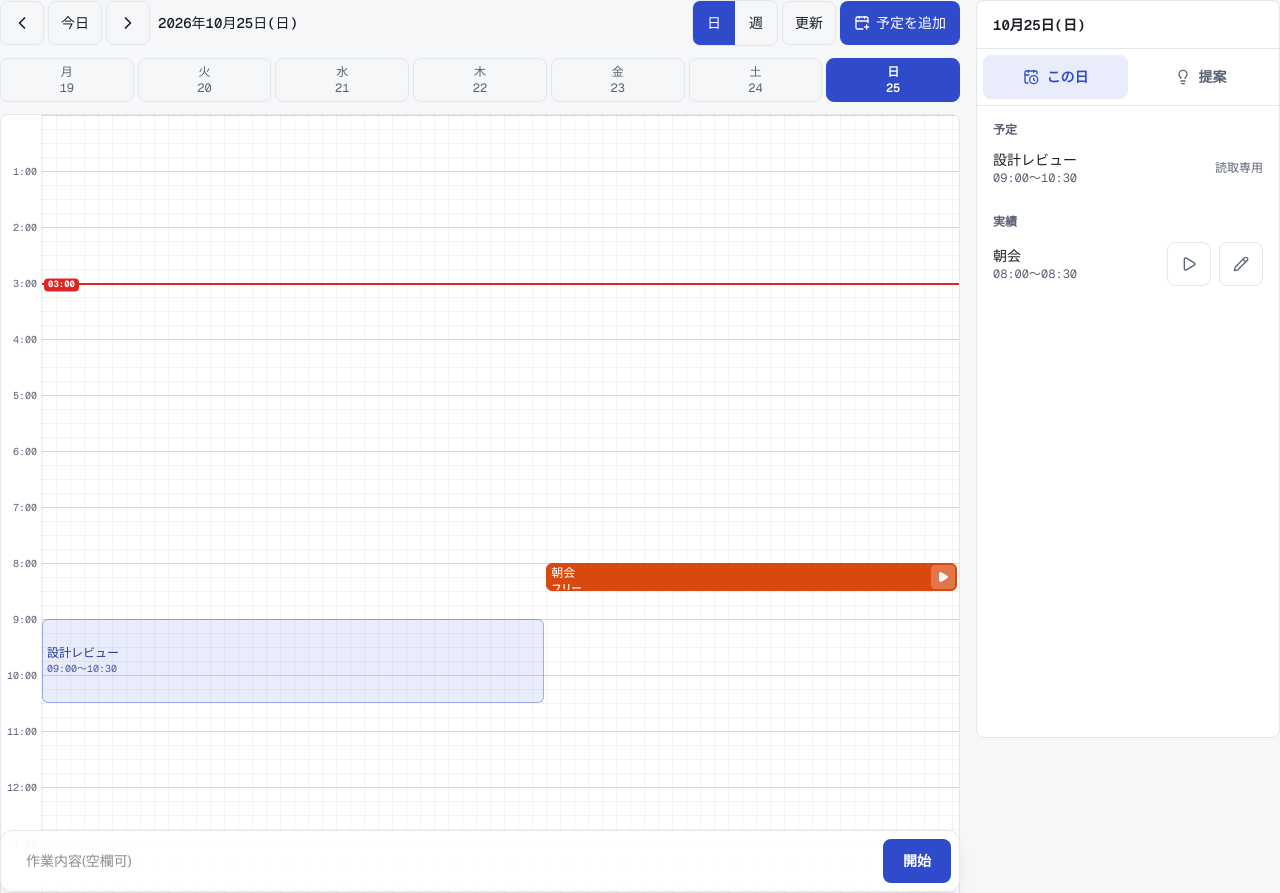
Scenario: 実績ブロックタップで編集パネルを開く(S10/S11) › S10: 確定済み実績ブロックをタップすると編集パネルが開き、内容が渡される
Click the button with aria-label "朝会の実績を編集(フリー)" at point(563, 573), box [546, 563, 957, 591]
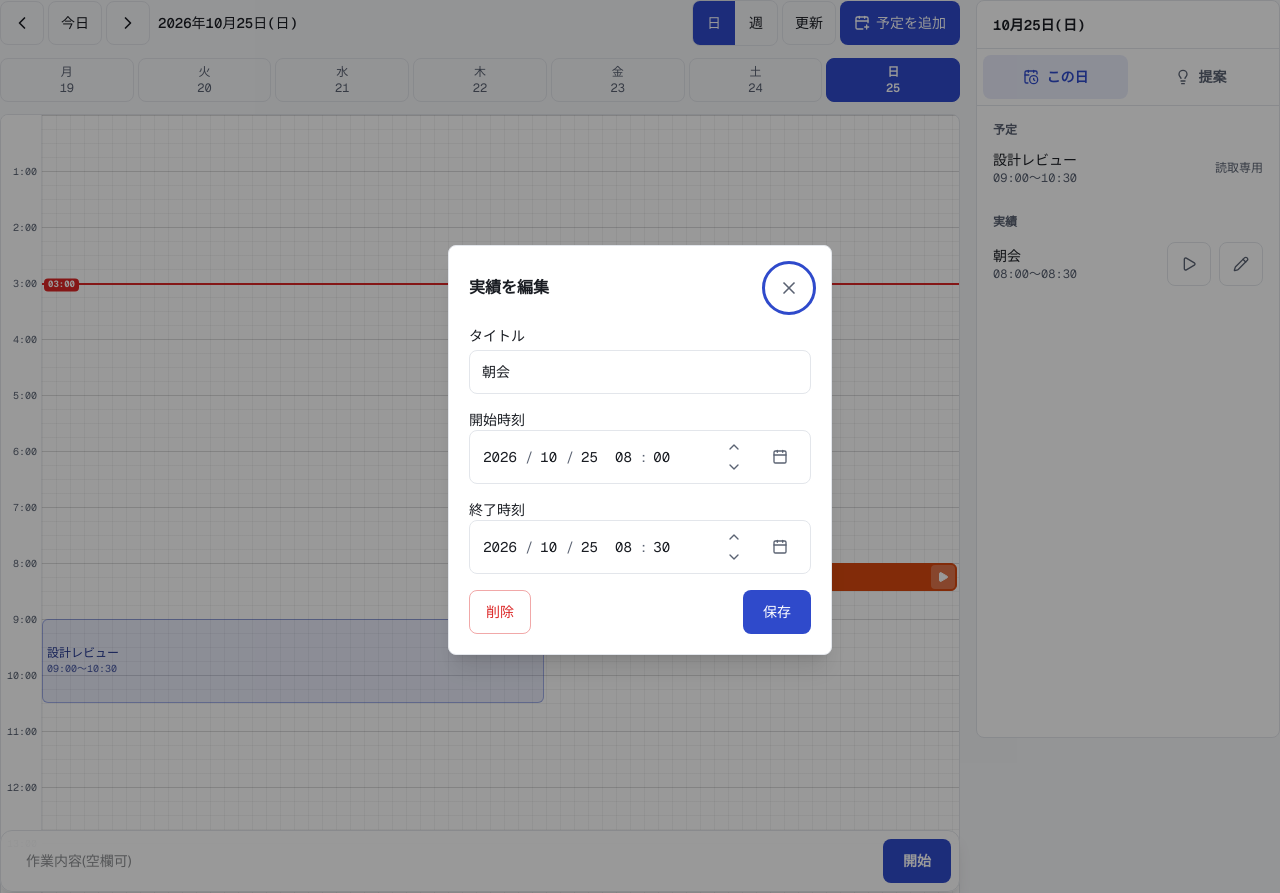
Expected: the dialog is shown, [448, 245, 832, 655]
Expected: the field labelled "タイトル" holds "朝会", [469, 350, 811, 394]
